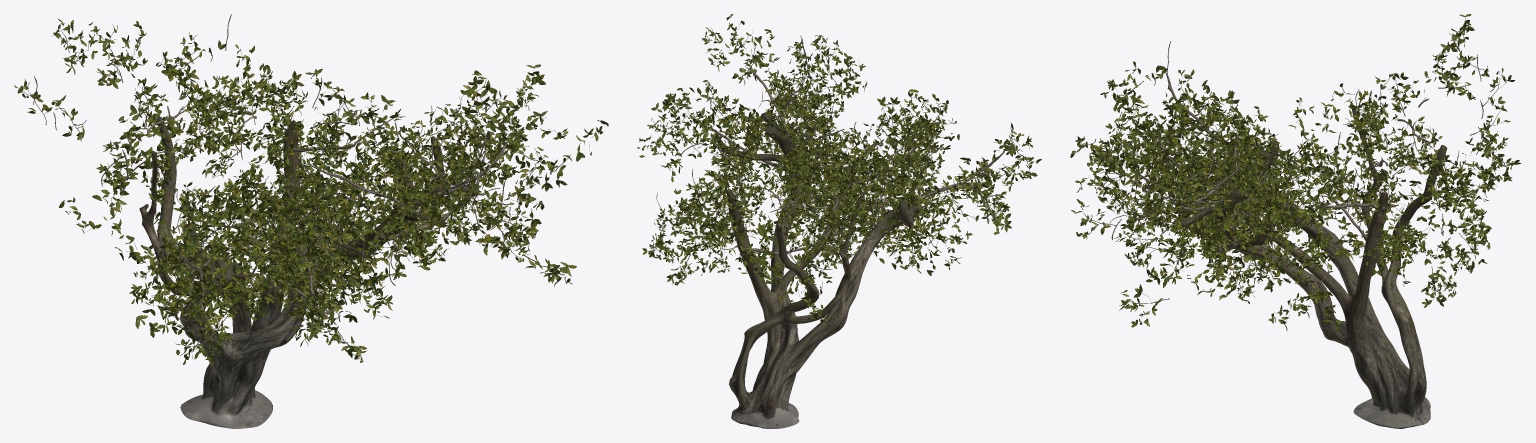
The model's file is island_tree_02.gltf.
The picture shows the model from 3 angles, left to right: view 1: azimuth 30°, elevation 25°; view 2: azimuth 150°, elevation 25°; view 3: azimuth 270°, elevation 25°; orthographic projection. The views are drawn at different scales.
Visible parts, largest first — view 1: island_tree_02_LOD0; view 2: island_tree_02_LOD0; view 3: island_tree_02_LOD0.
Boxes of the visible parts, left/top/right/bottom form: island_tree_02_LOD0: left=14, top=14, right=608, bottom=428; island_tree_02_LOD0: left=637, top=14, right=1041, bottom=428; island_tree_02_LOD0: left=1070, top=14, right=1521, bottom=428.
Bounding box in the file's own units: 3.88 × 3.4 × 4.06.
Materials: 3 (3 with a texture image).
